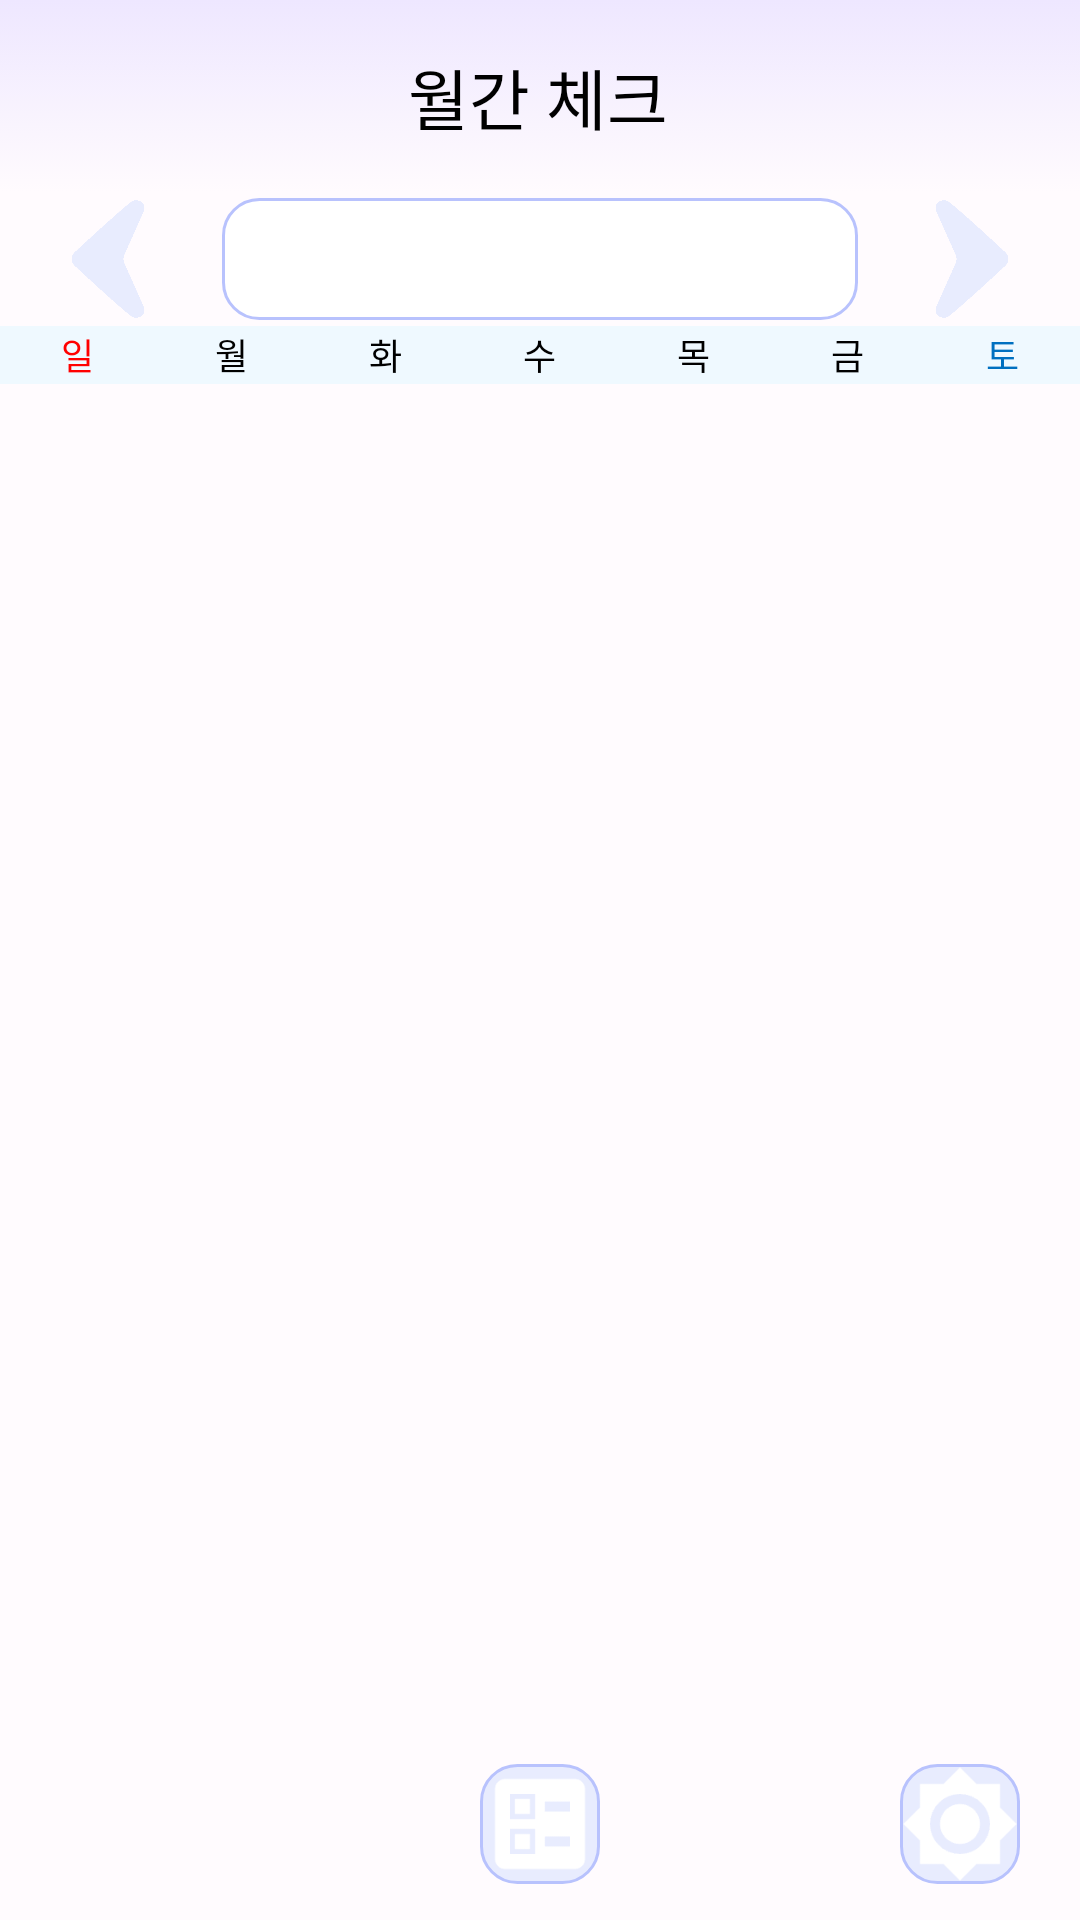

Where icons sit on this 1080px×1920px app screen, as (x1, y1, x2, y2):
checklist: (480, 1764, 600, 1884)
setting: (900, 1764, 1020, 1884)
